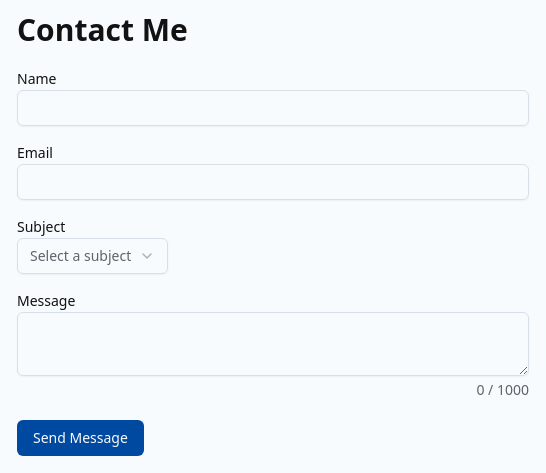
Test: Epic 1 Story 1 — Home Page: Contact Form Rendering › Subject field › shows all four subject options when opened
The image size is (546, 473).
Click the dropdown labelled "Select a subject": (93, 256) top-left (17, 238), bottom-right (168, 274)
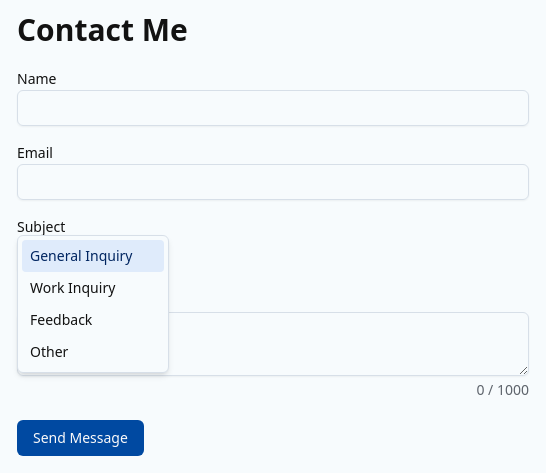
Now the option "General Inquiry" is shown, box top-left (22, 240), bottom-right (164, 272)
Now the option "Work Inquiry" is shown, box top-left (30, 278), bottom-right (115, 297)
Now the option "Feedback" is shown, box top-left (30, 310), bottom-right (92, 329)
